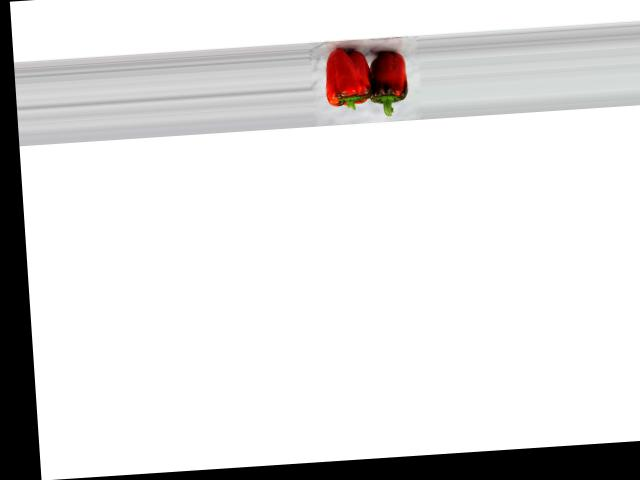bell_pepper: (316, 46, 372, 115)
